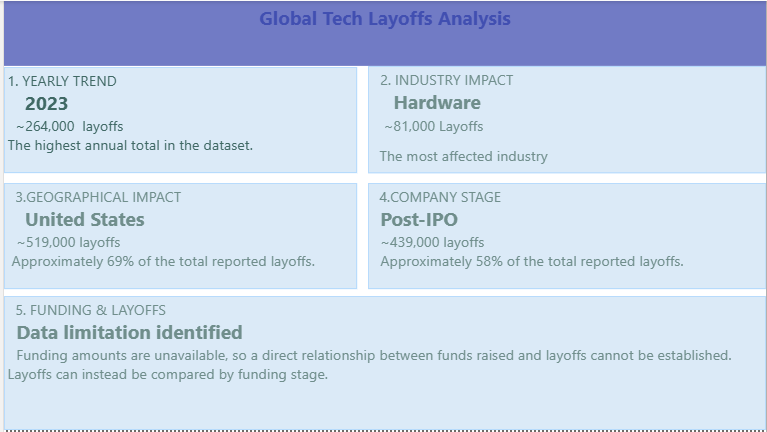

Layout of this report page (visuals, bound fields, positions):
{"tool":"powerbi","page":{"name":"Key Insights & Business Questions","canvas":[1280,720],"ordinal":3},"visuals":[{"type":"textbox","box":[0,0,1280,109.2],"z":0},{"type":"textbox","box":[0,110.9,593,178.1],"z":1},{"type":"textbox","box":[611.4,109.2,668.6,179.7],"z":2},{"type":"textbox","box":[0,305.7,593,178.1],"z":3},{"type":"textbox","box":[611.4,305.7,668.6,178.1],"z":4},{"type":"textbox","box":[0,495.5,1280,225.1],"z":5}]}

Visuals, with their boxes in screenshot pixels (x1, y1, x2, y2), scaled from the page's 1280x720 canvas onto the 767x432 screenshot:
textbox: 0,0,766,66
textbox: 0,67,355,173
textbox: 366,66,766,173
textbox: 0,183,355,290
textbox: 366,183,766,290
textbox: 0,297,766,431
